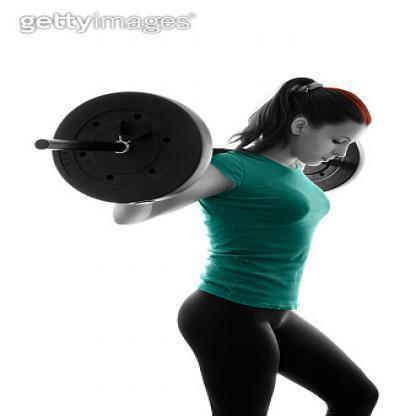barbell: (36, 90, 212, 202)
